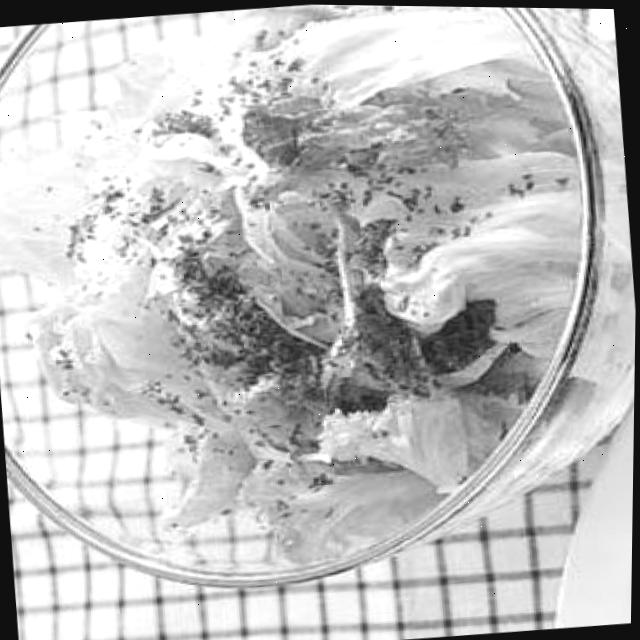蔬菜料理: (0, 0, 640, 616)
